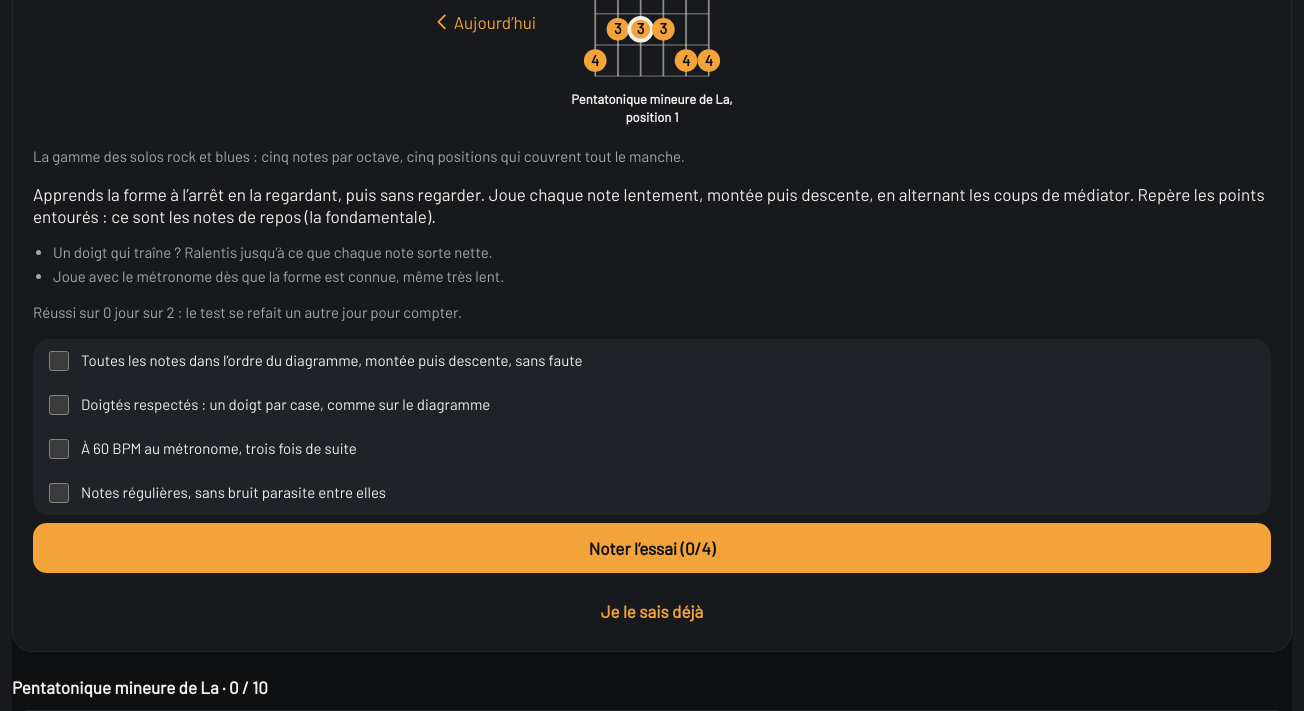
Test: parcours des gammes › forme réussie : notée, mais il faut un second jour pour la valider
(page scrolled)
Click the 1st checkbox at point(59, 361), box [49,351,69,371]
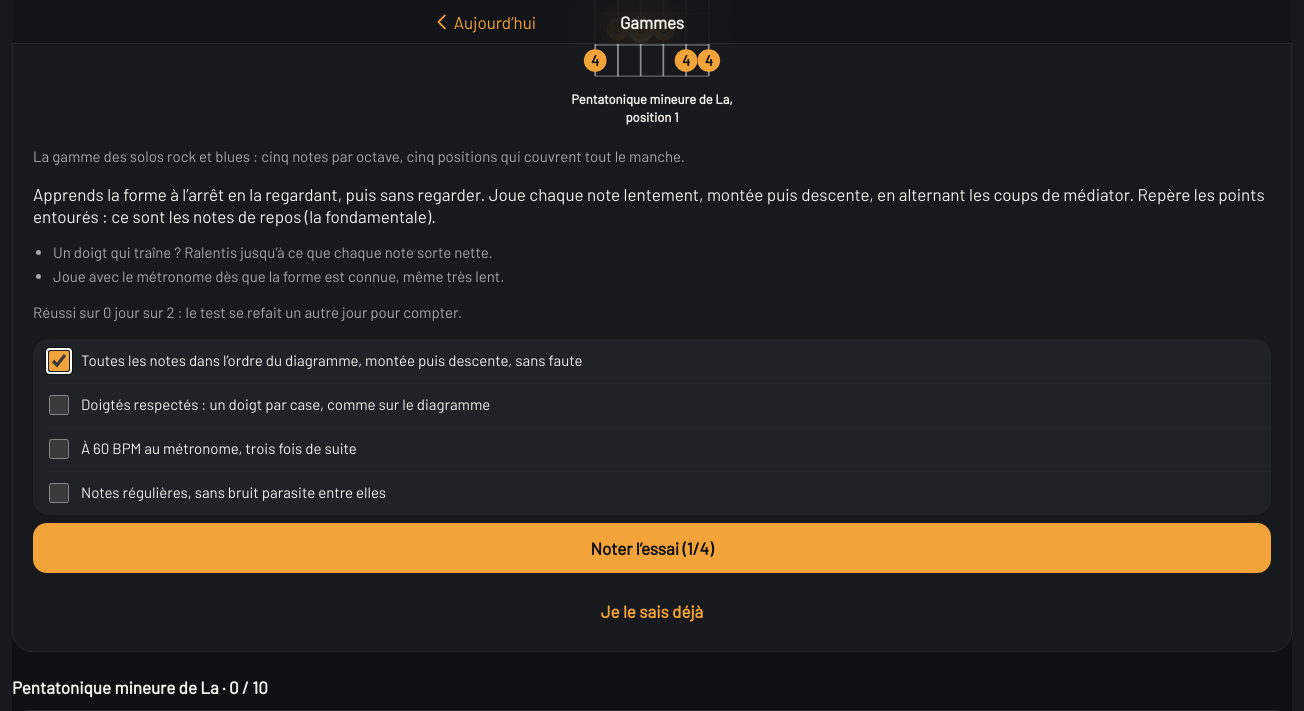
Click the 2nd checkbox at point(59, 405), box [49,395,69,415]
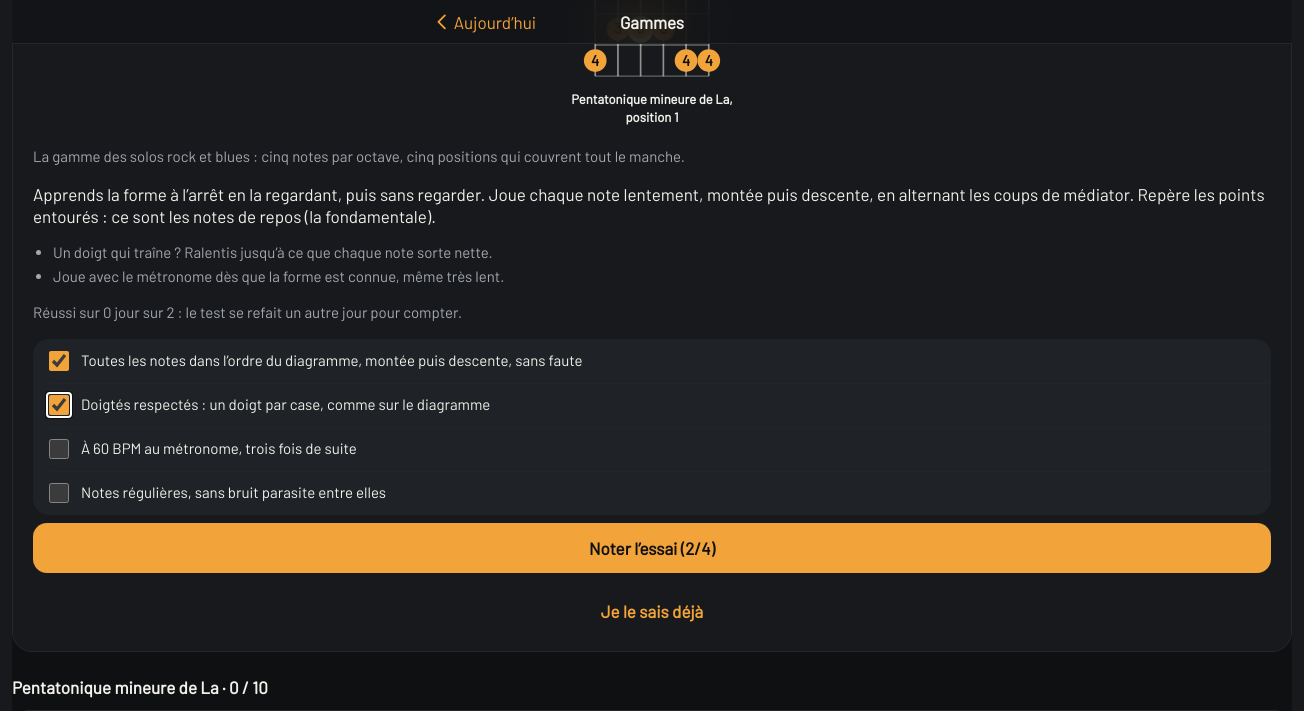
Click the checkbox labelled "À 60 BPM au métronome, trois fois de suite" at point(59, 449), box [49,439,69,459]
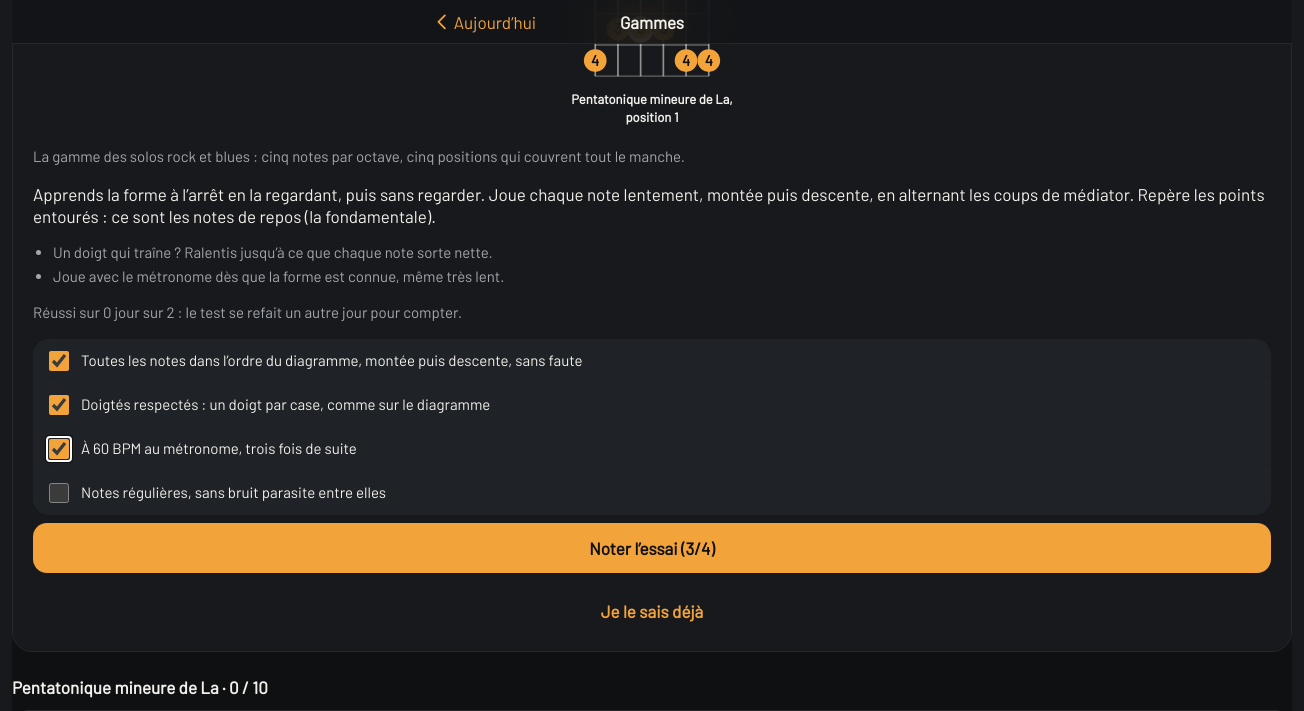
Click the checkbox labelled "Notes régulières, sans bruit parasite entre elles" at point(59, 493), box [49,483,69,503]
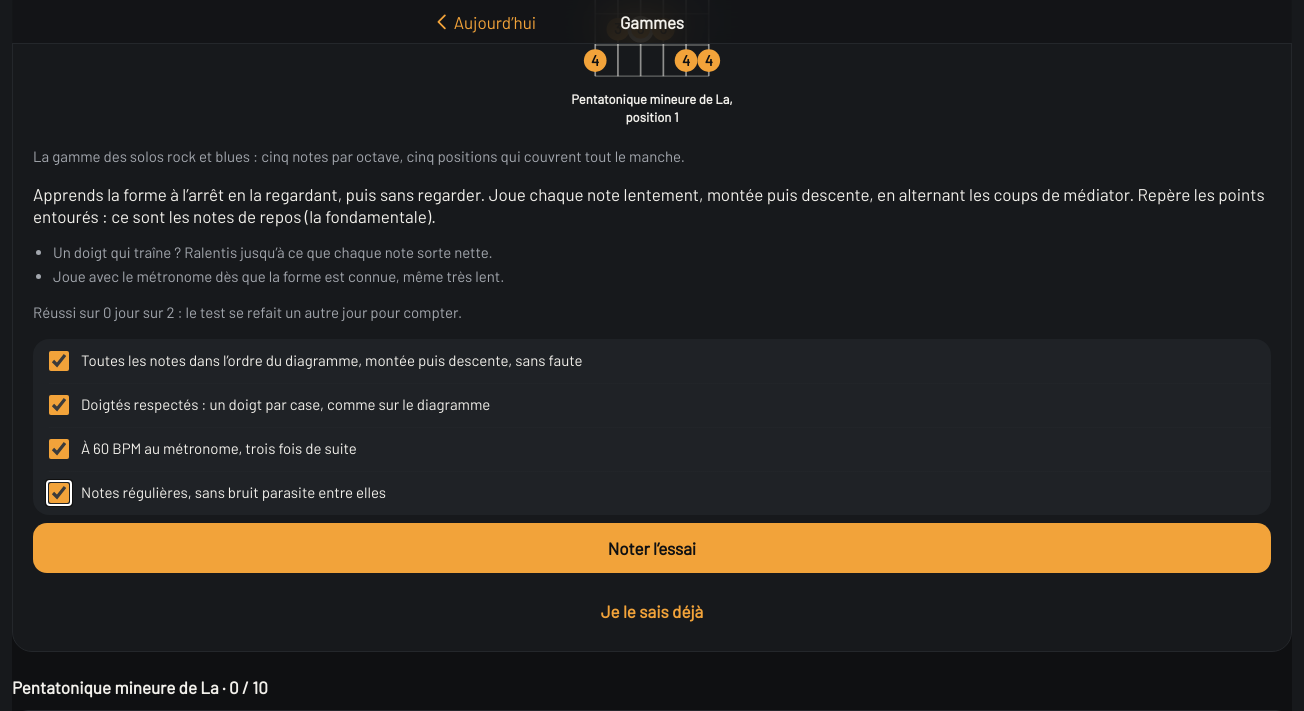
Click the button "Noter l’essai" at point(652, 548), box [33,523,1271,573]
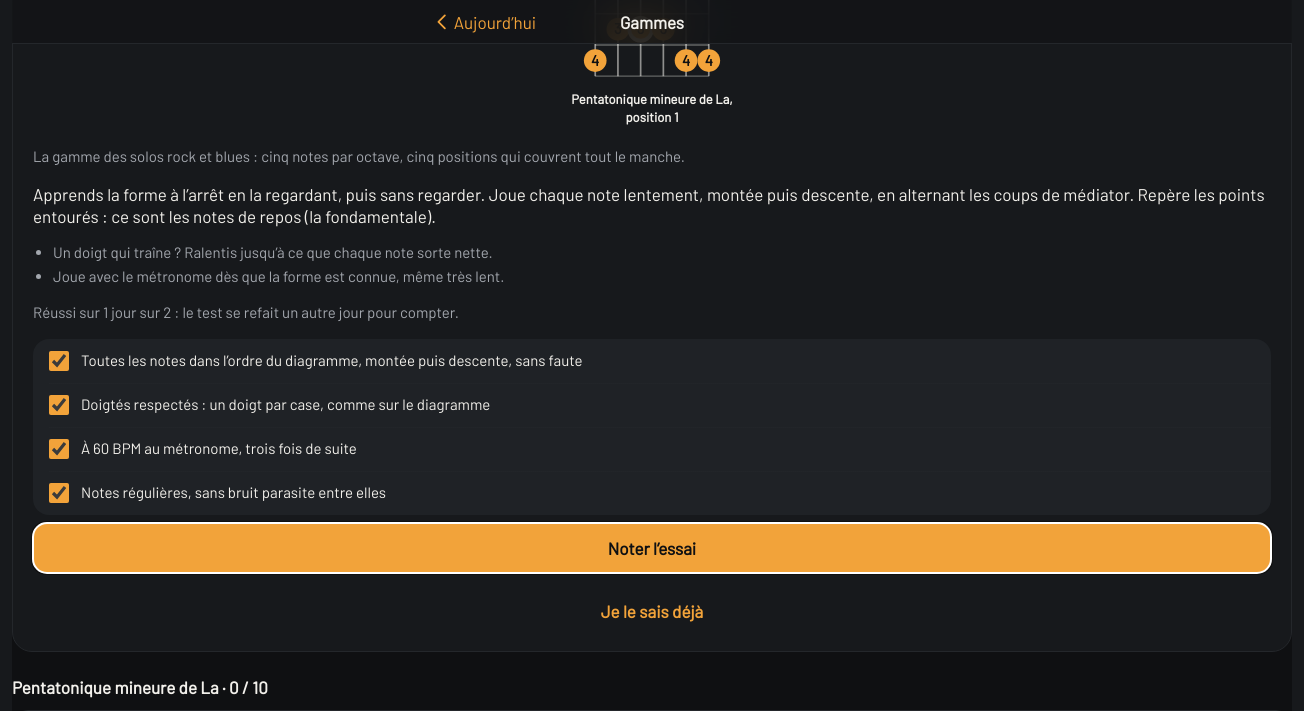
Now the text "Réussi sur 1 jour sur 2" is shown, box [33,303,459,321]
